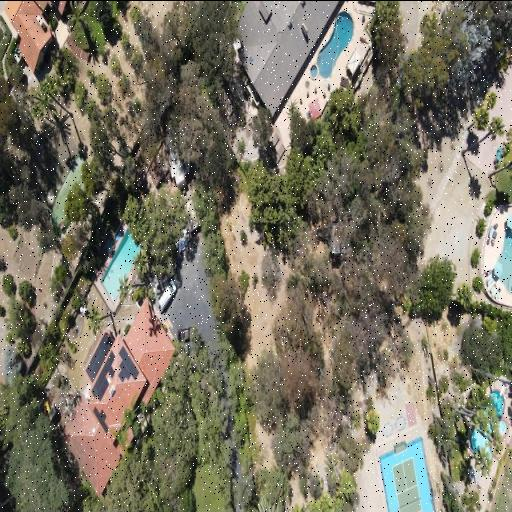solar-panel: (85, 332, 113, 383), (91, 350, 115, 402), (118, 345, 139, 383), (93, 406, 109, 434)
